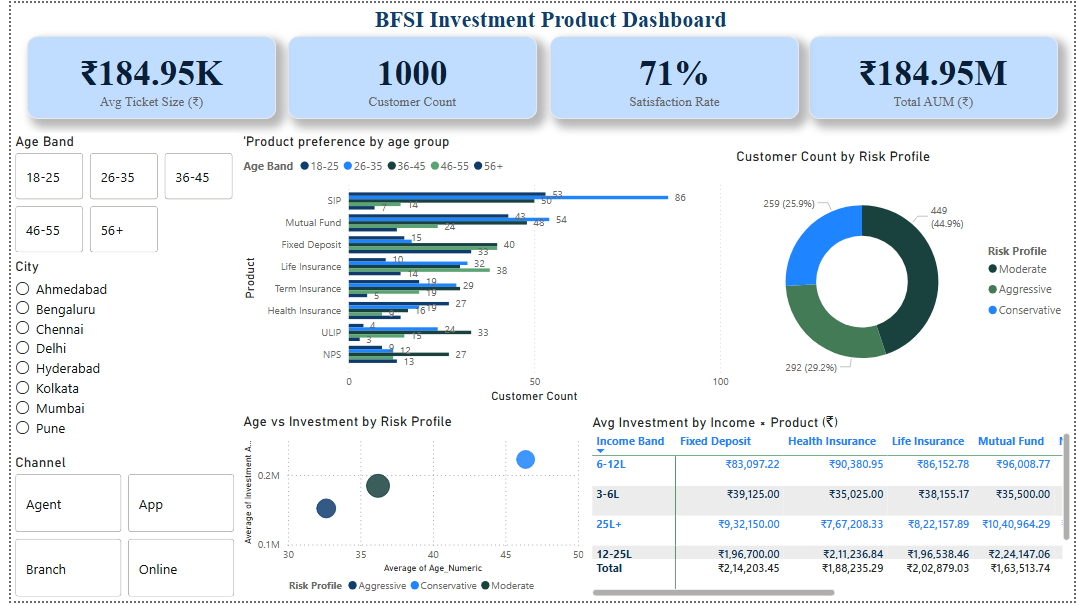

Layout of this report page (visuals, bound fields, positions):
{"tool":"powerbi","page":{"name":"Page 1","canvas":[1280,720],"ordinal":0},"visuals":[{"type":"clusteredBarChart","title":" ''Product preference by age group","fields":{"Y":["Cleaned_Data.Customer Count"],"Category":["Cleaned_Data.Product"],"Series":["Cleaned_Data.Age_Band"]},"box":[274.6,156.1,594.7,330.4],"z":0},{"type":"donutChart","fields":{"Category":["Cleaned_Data.Risk_Profile"],"Y":["Cleaned_Data.Customer Count"]},"box":[869.2,174.3,411.3,303],"z":1000},{"type":"pivotTable","title":"Avg Investment by Income × Product (₹)","fields":{"Rows":["Cleaned_Data.Income_Band"],"Columns":["Cleaned_Data.Product"],"Values":["Cleaned_Data.Avg Ticket"]},"box":[694.9,494.4,585.6,225.6],"z":2000},{"type":"scatterChart","title":"Age vs Investment by Risk Profile","fields":{"X":["Avg(Cleaned_Data.Age_Numeric)"],"Y":["Avg(Cleaned_Data.Investment_Amount_INR)"],"Series":["Cleaned_Data.Risk_Profile"],"Size":["Cleaned_Data.Customer Count"]},"box":[274.6,494.4,420.4,225.6],"z":3000},{"type":"card","fields":{"Values":["Cleaned_Data.Avg Ticket"]},"box":[19.4,39.9,300,100],"z":4000,"group":"g1"},{"type":"listSlicer","fields":{"Values":["Cleaned_Data.City"]},"box":[0,306.8,263.9,226.5],"z":4000},{"type":"card","fields":{"Values":["Cleaned_Data.Customer Count"]},"box":[333.8,39.9,299.6,100.3],"z":5000,"group":"g1"},{"type":"advancedSlicerVisual","fields":{"Values":["Cleaned_Data.Channel"]},"box":[0,543.2,274.9,177],"z":5000},{"type":"textbox","box":[401,0,497.8,58.1],"z":6000},{"type":"card","fields":{"Values":["Cleaned_Data.Satisfaction Rate"]},"box":[649.4,39.9,299.6,100.3],"z":6000,"group":"g1"},{"type":"group","id":"g1","title":"Group 1","box":[19.4,39.9,1241.8,100.3],"z":7000},{"type":"card","fields":{"Values":["Cleaned_Data.Total AUM"]},"box":[961.7,39.9,299.6,100.3],"z":7000,"group":"g1"},{"type":"advancedSlicerVisual","fields":{"Values":["Cleaned_Data.Age Band"]},"box":[0,156.2,274.9,150.7],"z":9000}]}

Visuals, with their boxes in screenshot pixels (x1, y1, x2, y2), scaled from the page's 1280x720 canvas onto the 1080x605 screenshot:
" ''Product preference by age group" clusteredBarChart: 232 131 733 409
donutChart - Cleaned_Data.Risk_Profile x Cleaned_Data.Customer Count: 733 146 1079 401
"Avg Investment by Income × Product (₹)" pivotTable: 586 415 1079 604
"Age vs Investment by Risk Profile" scatterChart: 232 415 586 604
card - Cleaned_Data.Avg Ticket: 16 34 269 118
listSlicer - Cleaned_Data.City: 0 258 223 448
card - Cleaned_Data.Customer Count: 282 34 534 118
advancedSlicerVisual - Cleaned_Data.Channel: 0 456 232 604
textbox: 338 0 758 49
card - Cleaned_Data.Satisfaction Rate: 548 34 801 118
"Group 1" group: 16 34 1064 118
card - Cleaned_Data.Total AUM: 811 34 1064 118
advancedSlicerVisual - Cleaned_Data.Age Band: 0 131 232 258
